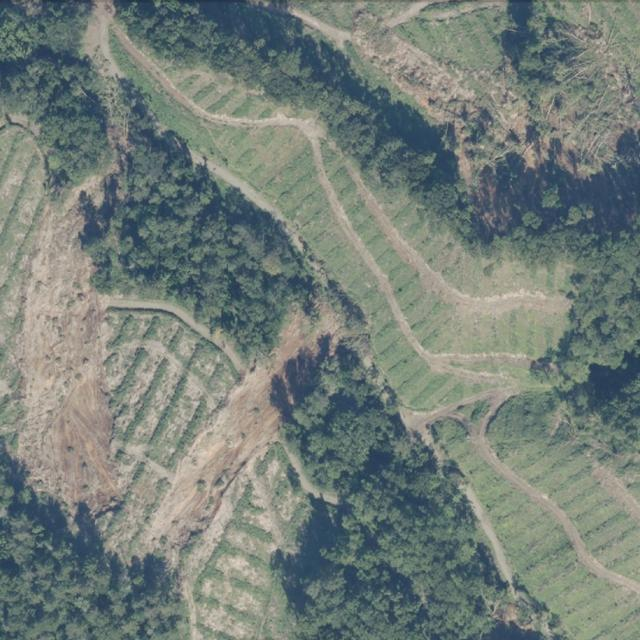landslide: (8, 185, 148, 529), (138, 369, 279, 559)
